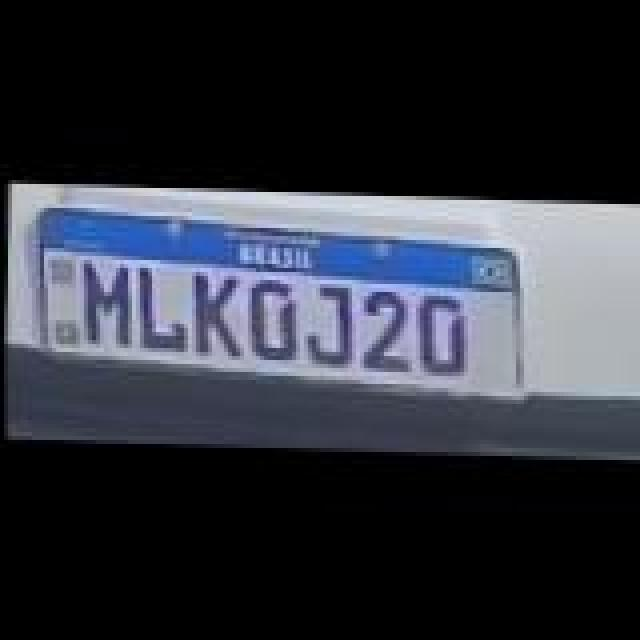2: (354, 290, 414, 370)
D: (410, 292, 470, 372), (240, 278, 296, 358)
J: (300, 282, 356, 366)
K: (188, 270, 244, 354)
L: (132, 268, 188, 352)
M: (78, 262, 138, 346)
